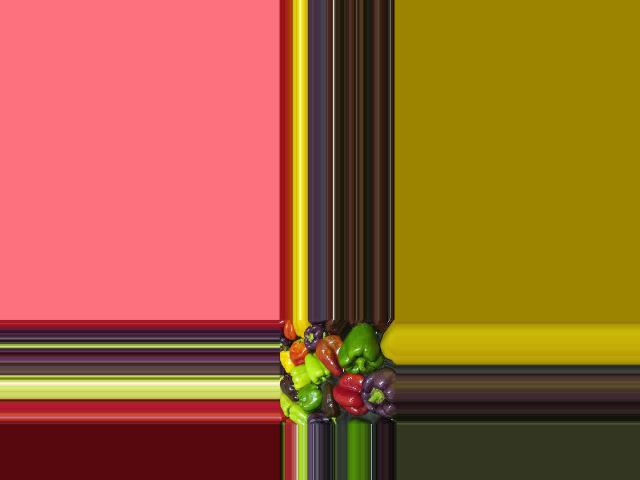bell_pepper: (299, 322, 324, 350)
